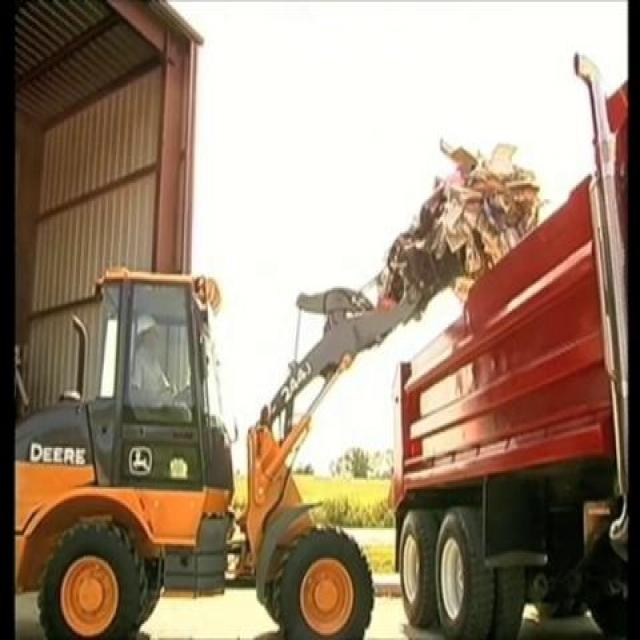Dump Truck: (396, 73, 629, 633)
Loader: (14, 195, 458, 633)
